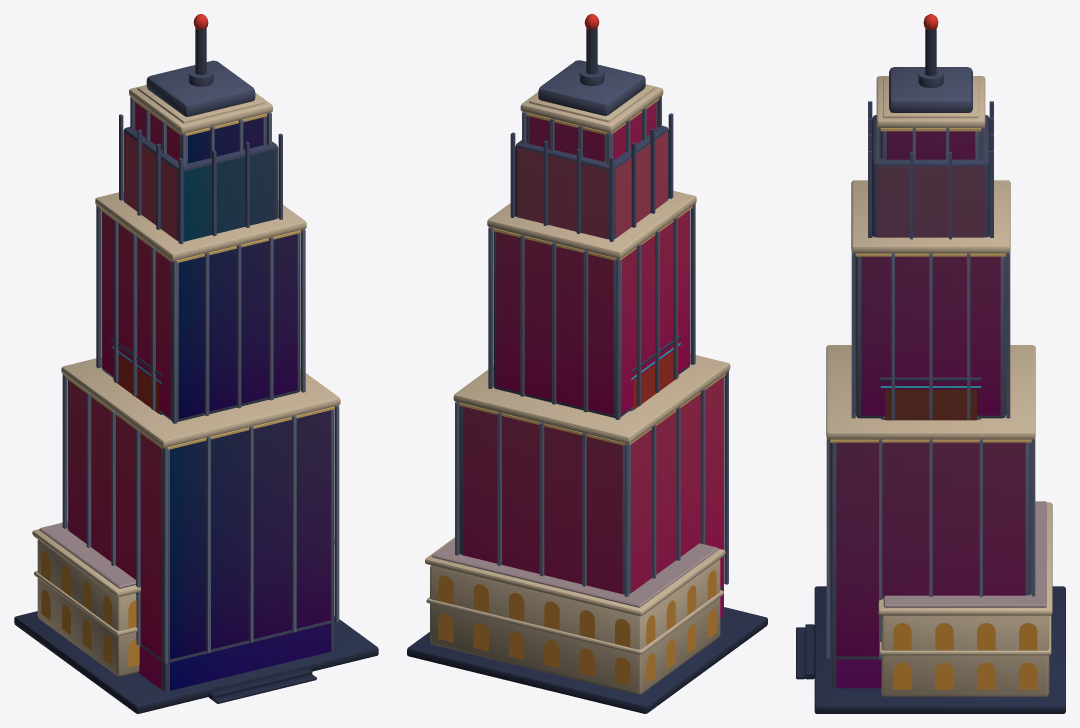
The model's file is env_city.glb.
3 renders of one model, left to right at view 1: azimuth 30°, elevation 25°; view 2: azimuth 150°, elevation 25°; view 3: azimuth 270°, elevation 25°, orthographic. The views are drawn at different scales.
Visible parts, largest first — view 1: landmark_tower, landmark_hall, tower_b, tower_c; view 2: landmark_tower, landmark_hall, tower_b, tower_c; view 3: landmark_tower, landmark_hall, tower_b, tower_c.
Part boxes in pixels (left/top/right/bottom): landmark_tower: left=61, top=14, right=340, bottom=691; landmark_hall: left=14, top=521, right=378, bottom=713; tower_b: left=119, top=85, right=282, bottom=244; tower_c: left=111, top=337, right=162, bottom=414; landmark_tower: left=453, top=14, right=730, bottom=617; landmark_hall: left=407, top=537, right=767, bottom=713; tower_b: left=510, top=84, right=673, bottom=241; tower_c: left=629, top=334, right=681, bottom=411; landmark_tower: left=826, top=14, right=1035, bottom=688; landmark_hall: left=796, top=501, right=1065, bottom=713; tower_b: left=868, top=76, right=993, bottom=239; tower_c: left=879, top=377, right=982, bottom=420.
Bounding box in the file's own units: 34 × 84.28 × 32.2.
